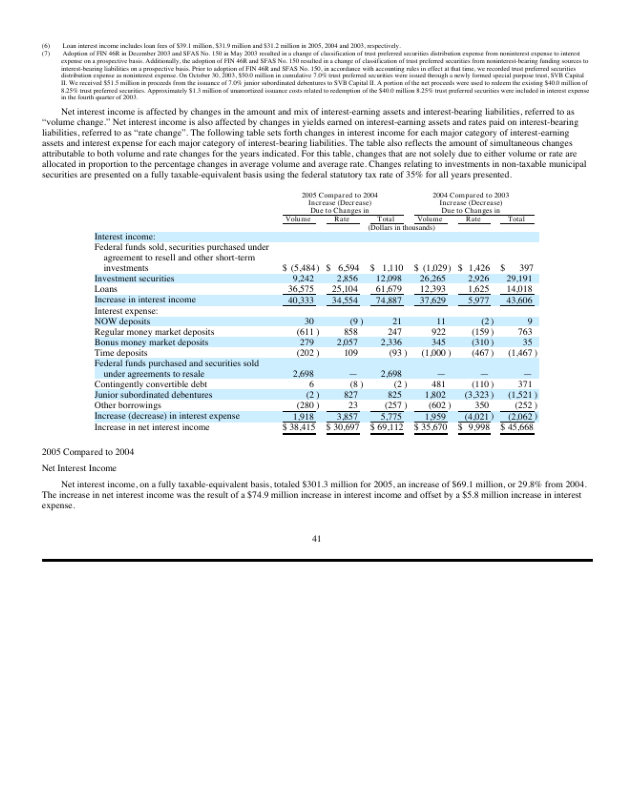table: (279, 186, 539, 436)
